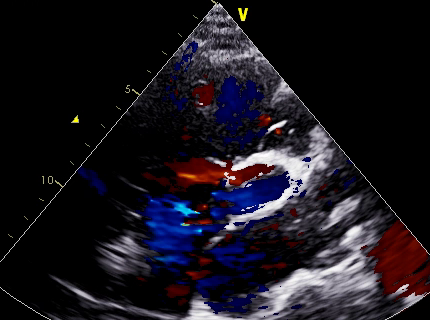TR: (147, 163, 243, 260)
